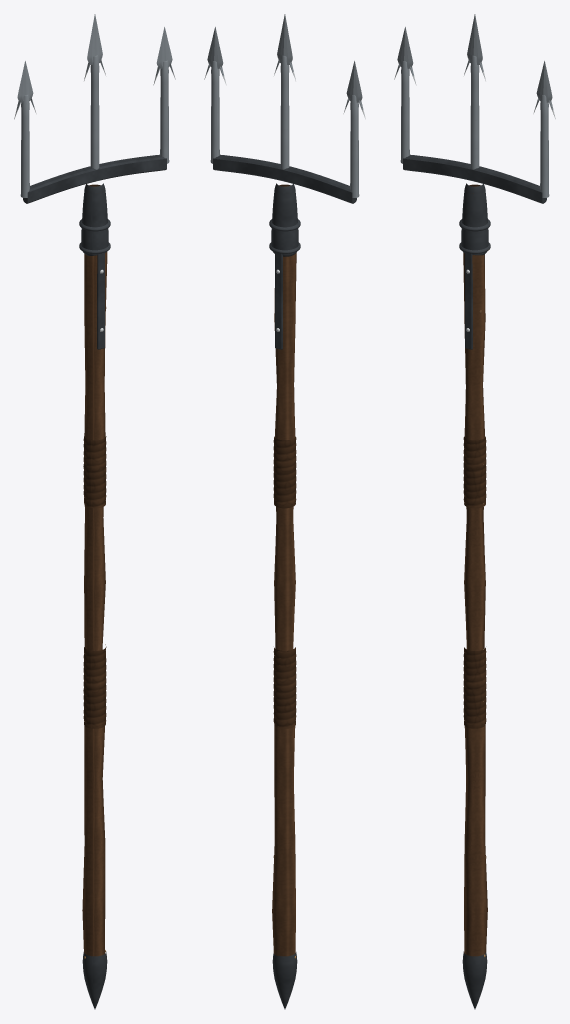
Rendered from trident.glb.
3 renders of one model, left to right at view 1: azimuth 30°, elevation 25°; view 2: azimuth 150°, elevation 25°; view 3: azimuth 330°, elevation 25°, orthographic.
Parts seen in each view (by area): view 1: wood / oiled hardwood, darksteel / oil-blackened fittings, steel / forged blade steel, leather / oiled leather wrap; view 2: wood / oiled hardwood, darksteel / oil-blackened fittings, steel / forged blade steel, leather / oiled leather wrap; view 3: wood / oiled hardwood, darksteel / oil-blackened fittings, steel / forged blade steel, leather / oiled leather wrap.
Part boxes in pixels (x1,y1,x2,y2): wood / oiled hardwood: [82, 184, 107, 956]; darksteel / oil-blackened fittings: [23, 154, 166, 1009]; steel / forged blade steel: [16, 14, 173, 197]; leather / oiled leather wrap: [83, 436, 106, 728]; wood / oiled hardwood: [272, 184, 296, 956]; darksteel / oil-blackened fittings: [213, 154, 356, 1009]; steel / forged blade steel: [206, 14, 363, 197]; leather / oiled leather wrap: [273, 436, 296, 728]; wood / oiled hardwood: [463, 184, 487, 956]; darksteel / oil-blackened fittings: [403, 154, 546, 1009]; steel / forged blade steel: [396, 14, 553, 197]; leather / oiled leather wrap: [463, 436, 486, 728].
Size of the model in its own units: 0.348 by 2.05 by 0.0592.
8 materials, 5 textured.
